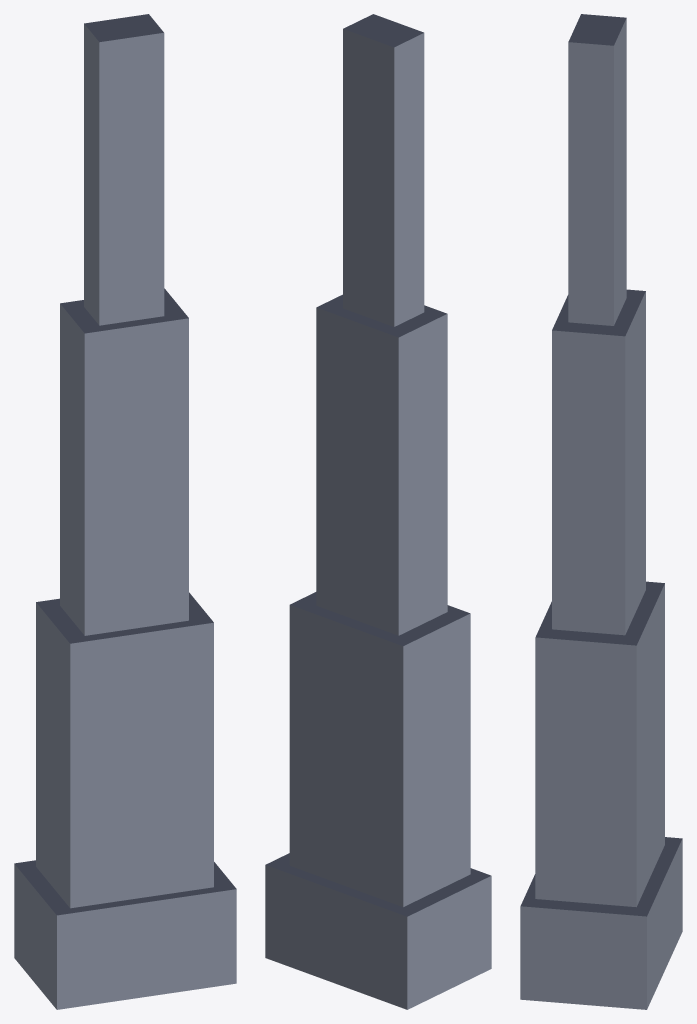
Rendered from one-thames-quay.glb.
3 views of the same model, side by side, from view 1: azimuth 30°, elevation 25°; view 2: azimuth 150°, elevation 25°; view 3: azimuth 270°, elevation 25° (orthographic).
Parts seen in each view (by area): view 1: one-thames-quay-1, one-thames-quay-2, one-thames-quay-3, one-thames-quay-0; view 2: one-thames-quay-1, one-thames-quay-2, one-thames-quay-3, one-thames-quay-0; view 3: one-thames-quay-1, one-thames-quay-2, one-thames-quay-3, one-thames-quay-0.
Part boxes in pixels (x1,y1,x2,y2): one-thames-quay-1: (36,592,213,908); one-thames-quay-2: (60,288,188,635); one-thames-quay-3: (84,14,164,325); one-thames-quay-0: (14,860,236,1009); one-thames-quay-1: (289,592,470,907); one-thames-quay-2: (316,294,447,635); one-thames-quay-3: (343,14,424,326); one-thames-quay-0: (265,853,491,1009); one-thames-quay-1: (535,581,664,907); one-thames-quay-2: (552,289,645,635); one-thames-quay-3: (568,14,626,325); one-thames-quay-0: (520,837,682,1009).
Size of the model in its own units: 0.4102 by 2.02 by 0.3178.
